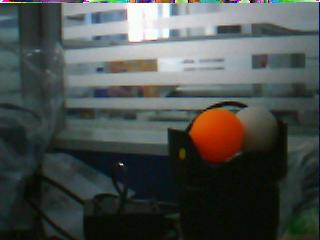oball: (190, 108, 244, 160)
